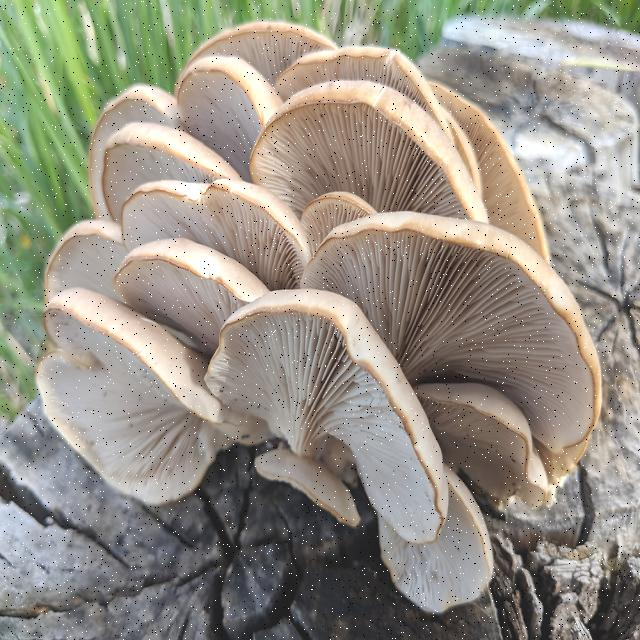Mushroom: (32, 81, 520, 573)
